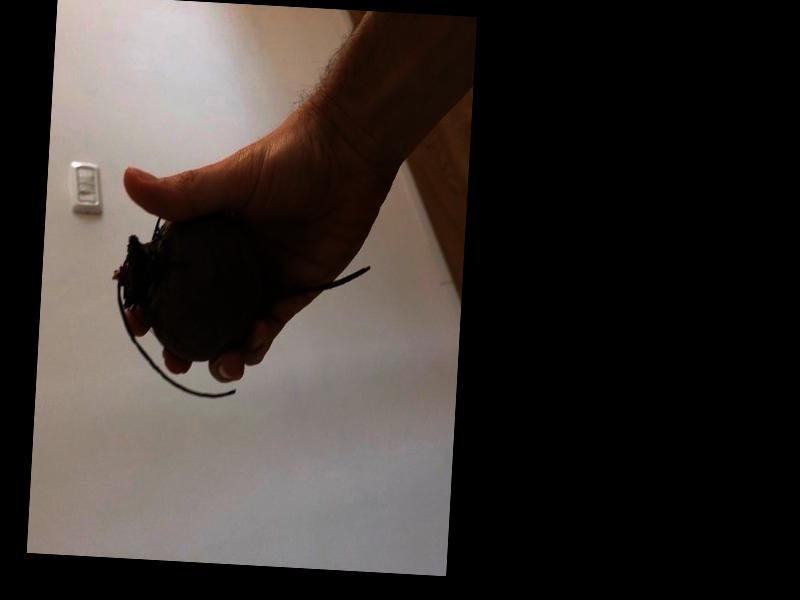Beet: (107, 213, 371, 408)
